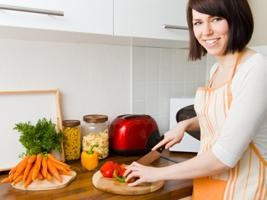person without safety: (183, 1, 267, 166)
